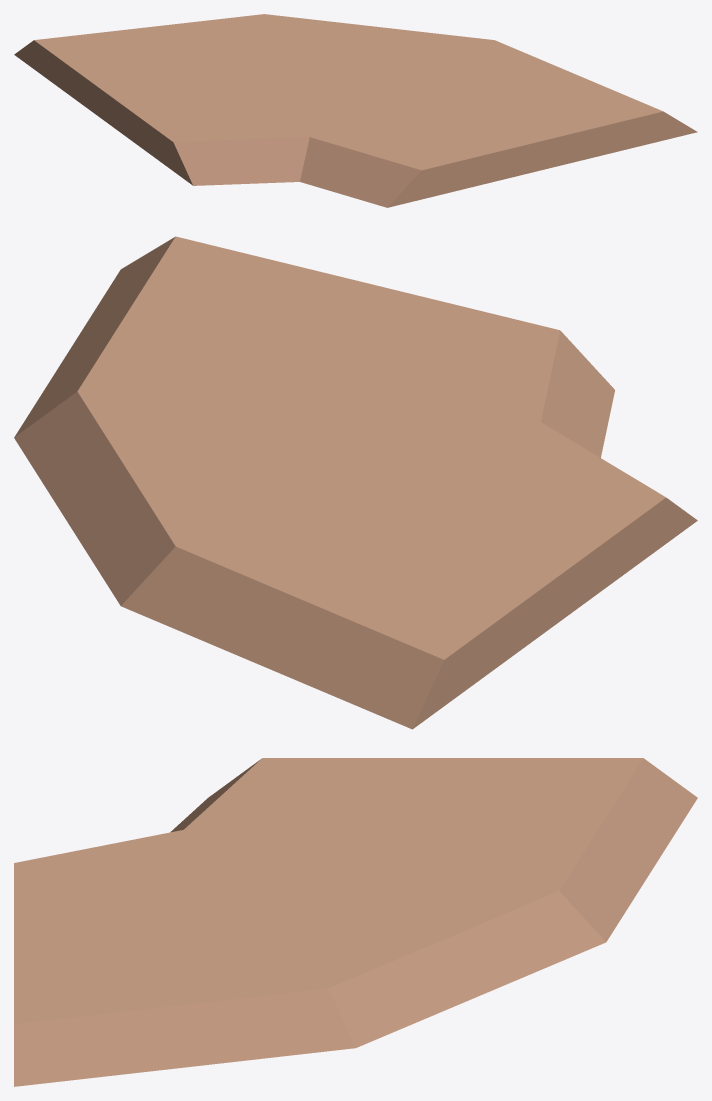
The model's file is crops_dirtRowCorner.glb.
3 renders of one model, top to bottom at view 1: azimuth 30°, elevation 25°; view 2: azimuth 150°, elevation 25°; view 3: azimuth 270°, elevation 25°, orthographic. The views are drawn at different scales.
Parts seen in each view (by area): view 1: crops_dirtRowCorner; view 2: crops_dirtRowCorner; view 3: crops_dirtRowCorner.
Boxes of the visible parts, x1,y1,x2,y2 form: crops_dirtRowCorner: (14,14,697,207); crops_dirtRowCorner: (14,236,697,729); crops_dirtRowCorner: (14,758,697,1086).
Size of the model in its own units: 0.779 by 0.05 by 0.779.
